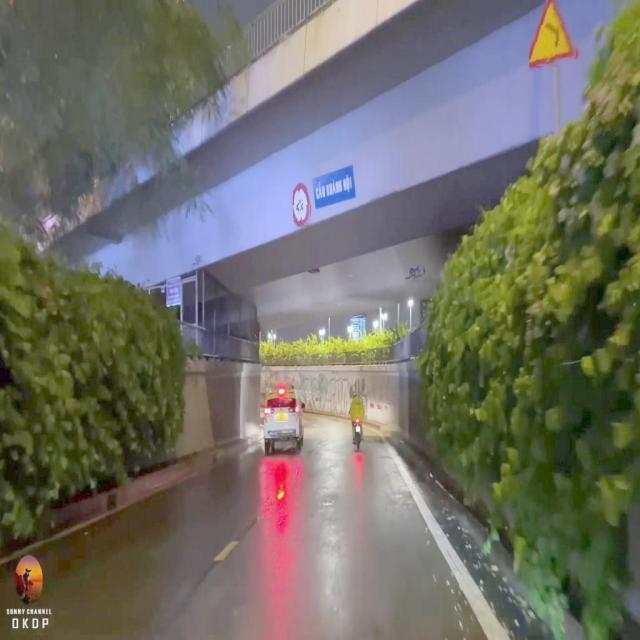201-cho-ngoat-nguy-hiem: (526, 0, 578, 68)
